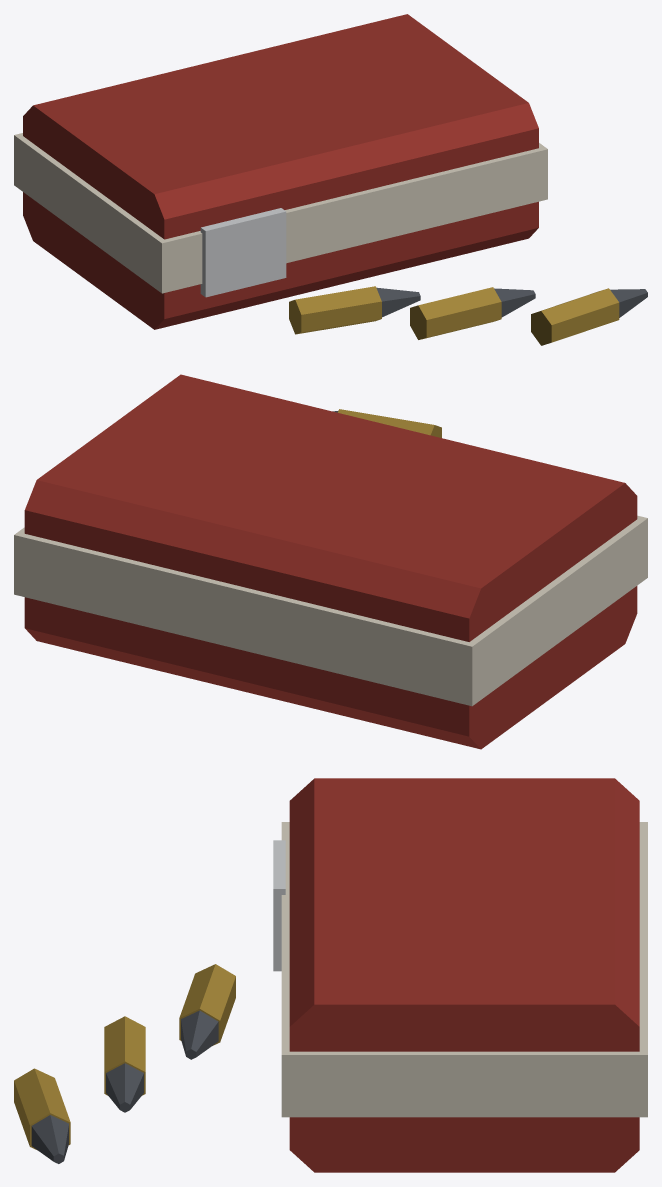
File: ammo_box_357.glb
3 renders of one model, top to bottom at view 1: azimuth 30°, elevation 25°; view 2: azimuth 150°, elevation 25°; view 3: azimuth 270°, elevation 25°, orthographic. The views are drawn at different scales.
Parts seen in each view (by area): view 1: Item; view 2: Item; view 3: Item.
Boxes of the visible parts, x1,y1,x2,y2 form: Item: [14, 14, 647, 345]; Item: [14, 374, 647, 749]; Item: [14, 778, 647, 1172].
Bounding box in the file's own units: 0.1778 × 0.0585 × 0.2002.
